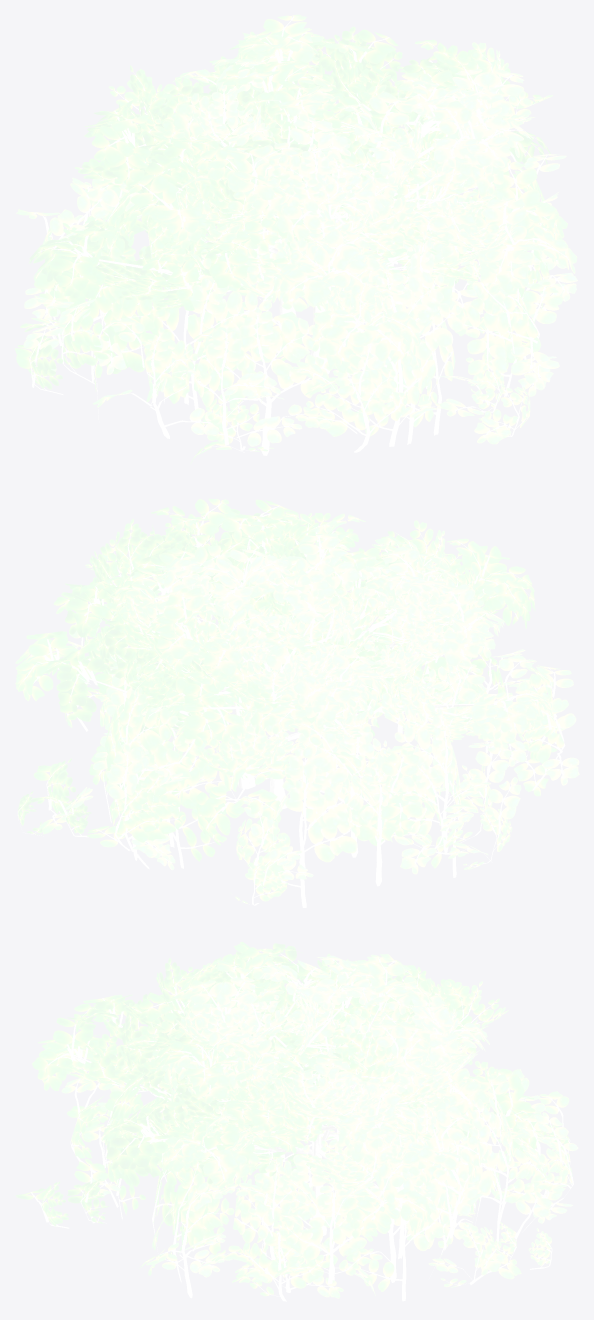
3 views of the same model, one above another, from view 1: azimuth 30°, elevation 25°; view 2: azimuth 150°, elevation 25°; view 3: azimuth 270°, elevation 25° (orthographic). The views are drawn at different scales.
Parts seen in each view (by area): view 1: SM_Bush_01_LOD0; view 2: SM_Bush_01_LOD0; view 3: SM_Bush_01_LOD0.
Part boxes in pixels (<box>): SM_Bush_01_LOD0: <box>15,14,577,464</box>; SM_Bush_01_LOD0: <box>15,498,579,907</box>; SM_Bush_01_LOD0: <box>15,941,578,1301</box>.
Size of the model in its own units: 2.75 by 1.62 by 2.88.
1 material, 1 textured.
